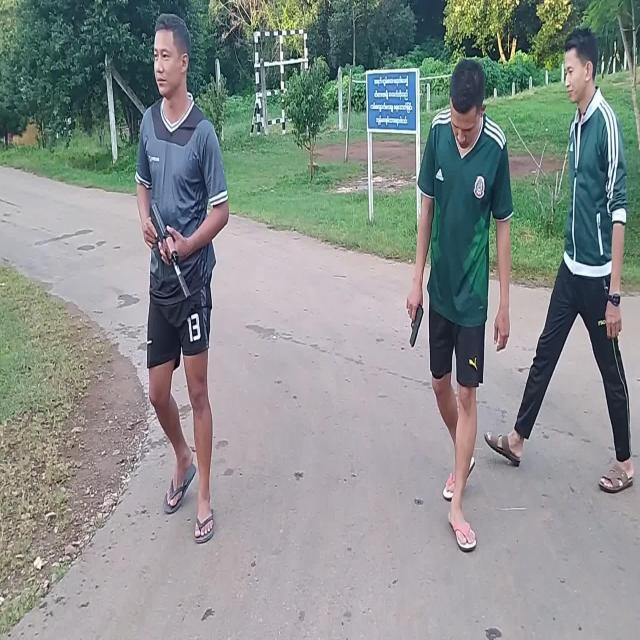gun: (151, 204, 191, 301), (410, 305, 424, 347)
